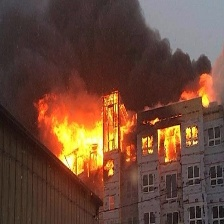fire: (52, 91, 135, 181), (138, 116, 200, 163), (201, 92, 210, 107)
smoke: (2, 1, 217, 106)
